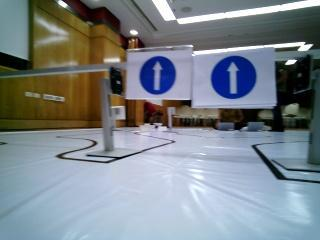straight: (194, 49, 276, 107), (125, 49, 193, 100)
